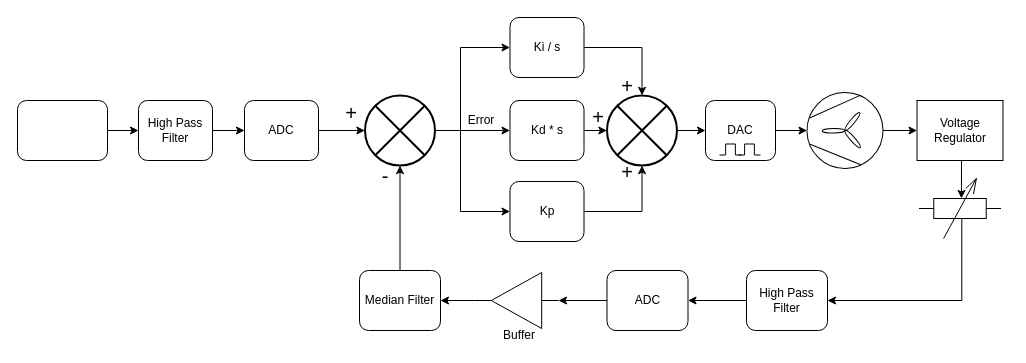
This 1026x363 diagram has some shape labels left out. The shapes that lost their labels are listed below. From the top down, each one's box as (x1, y1, x2, y2) in pixels, then its label:
(16, 100, 108, 160): Potentiometer
(918, 178, 1001, 238): LM35
